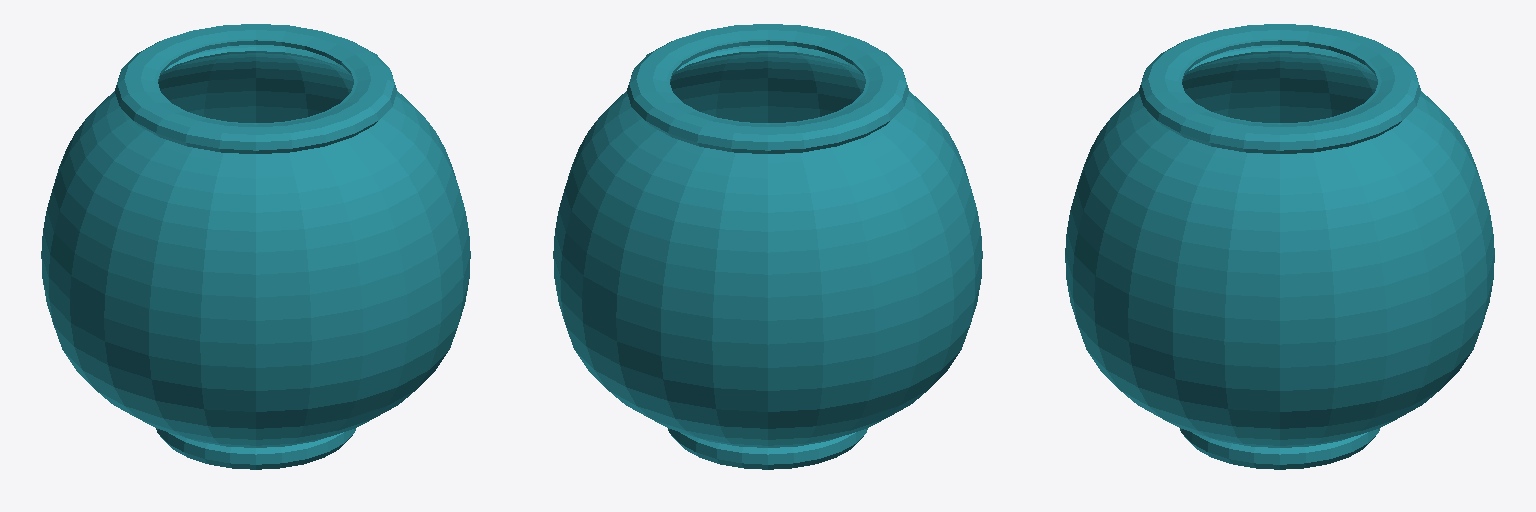
File: FinishedFishBowl.obj
3 views of the same model, side by side, from view 1: azimuth 30°, elevation 25°; view 2: azimuth 150°, elevation 25°; view 3: azimuth 270°, elevation 25° (orthographic).
Visible parts, largest first — view 1: FishBowl; view 2: FishBowl; view 3: FishBowl.
Part boxes in pixels (x1,y1,x2,y2): FishBowl: (41,24,470,469); FishBowl: (553,24,982,469); FishBowl: (1065,24,1494,469).
Size of the model in its own units: 26.52 by 24.15 by 26.52.